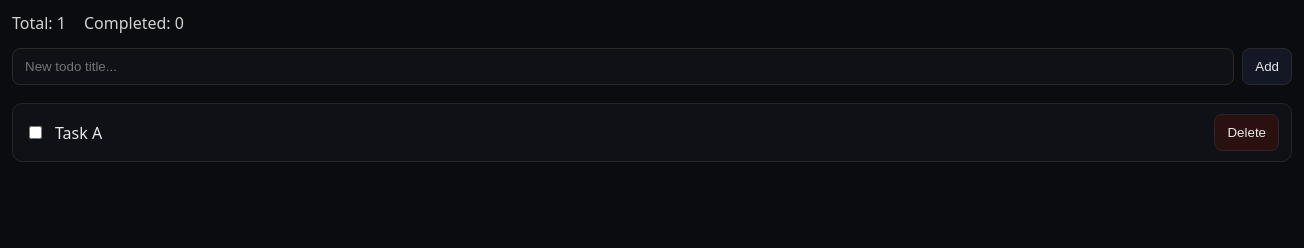
Test case: TodoPage › creates, toggles, and deletes todos while keeping counters in sync
The width and height of the screenshot is (1304, 248).
Expected: the text "Task A" is shown, [55,122,102,144]
Expected: the text "Total: 1" is shown, [12,12,66,34]
Type "New task" into the field with placeholder "New todo title..." at [623, 66], box [12,48,1234,85]
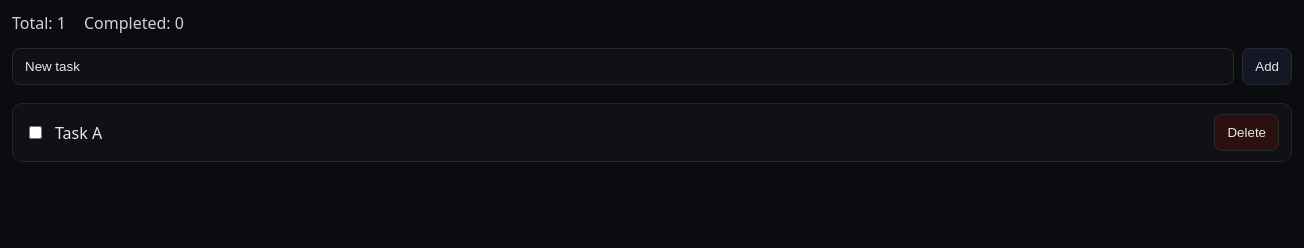
Click the button "Add" at [1267, 66], box [1242,48,1292,85]
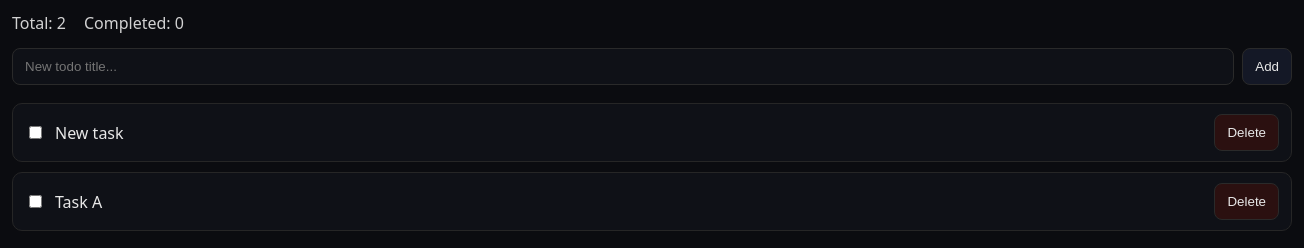
Expected: the text "Completed: 0" is shown, [84,12,184,34]
Expected: the text "Total: 2" is shown, [12,12,66,34]
Click the checkbox labelled "New task" at [36, 132], box [29,126,42,139]
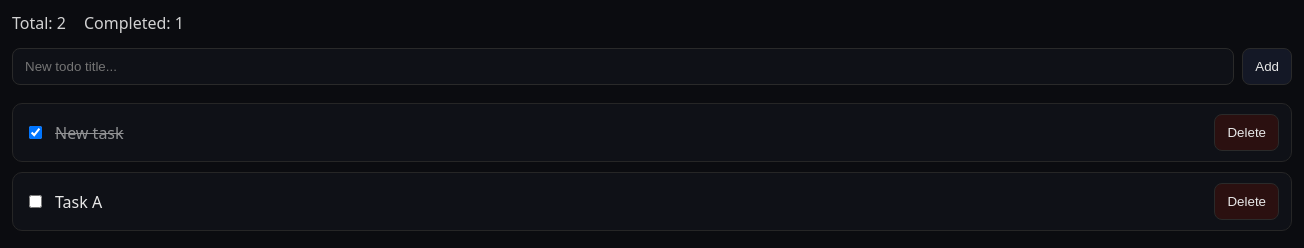
Expected: the text "Completed: 1" is shown, [84,12,184,34]
Click the button "Delete" in the row of "New task" at [1247, 132], box [1214,114,1279,151]
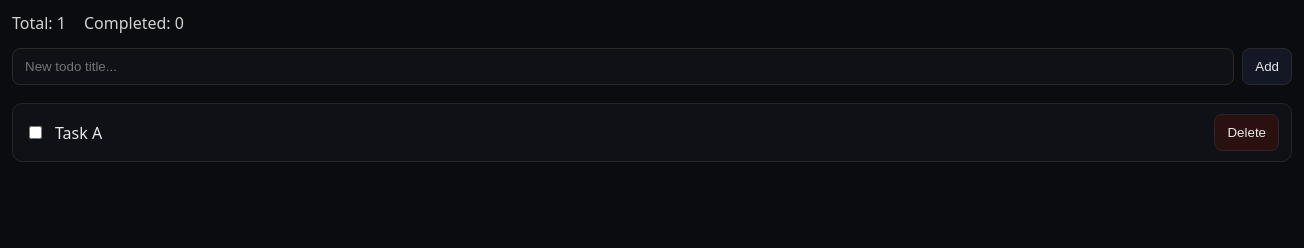
Expected: the text "Total: 1" is shown, [12,12,66,34]
Expected: the text "New task" is gone
